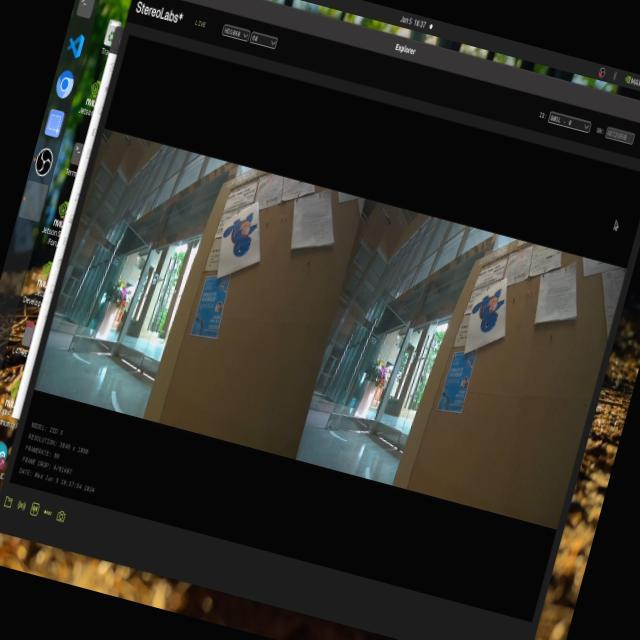blue: (217, 208, 273, 266), (466, 292, 510, 342)
